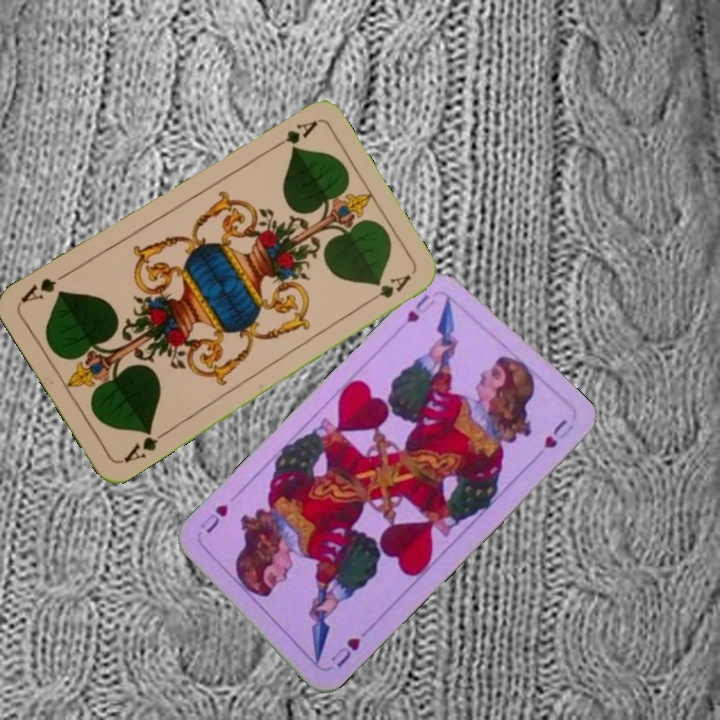GA: (117, 425, 170, 466), (265, 116, 320, 154)
HU: (326, 633, 363, 670), (402, 290, 432, 326)
